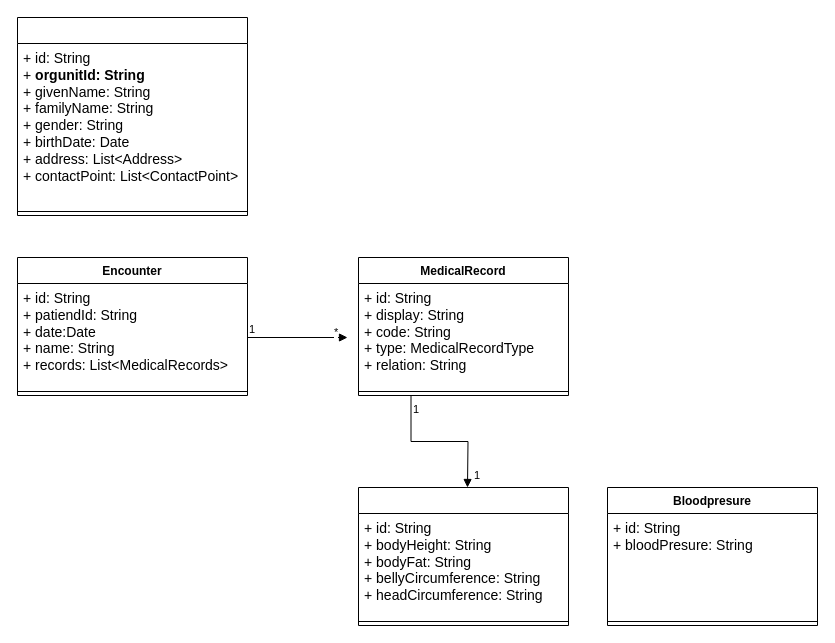
Some shapes in this 835 by 643 pixel diagram are drawn without their labels. Here are the shapes that lost their labels. From the top down, the box of each, then its label:
(16, 16, 248, 216): Patient
(358, 486, 568, 626): BodyMetrics
